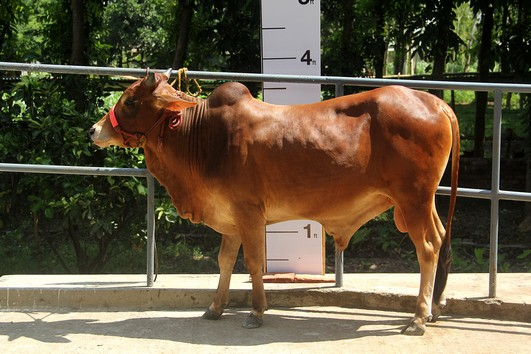cow: (80, 57, 466, 341)
